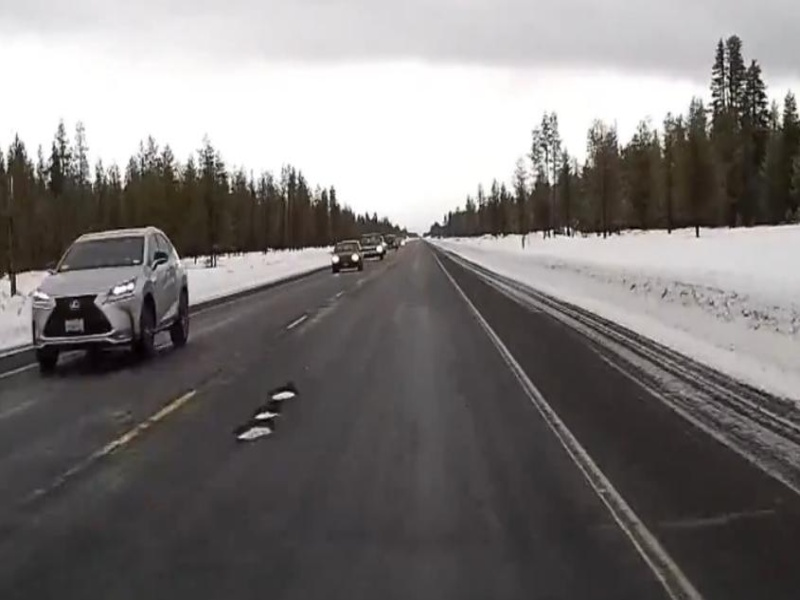pothole: (233, 420, 271, 449), (250, 406, 281, 423), (265, 387, 300, 402)
